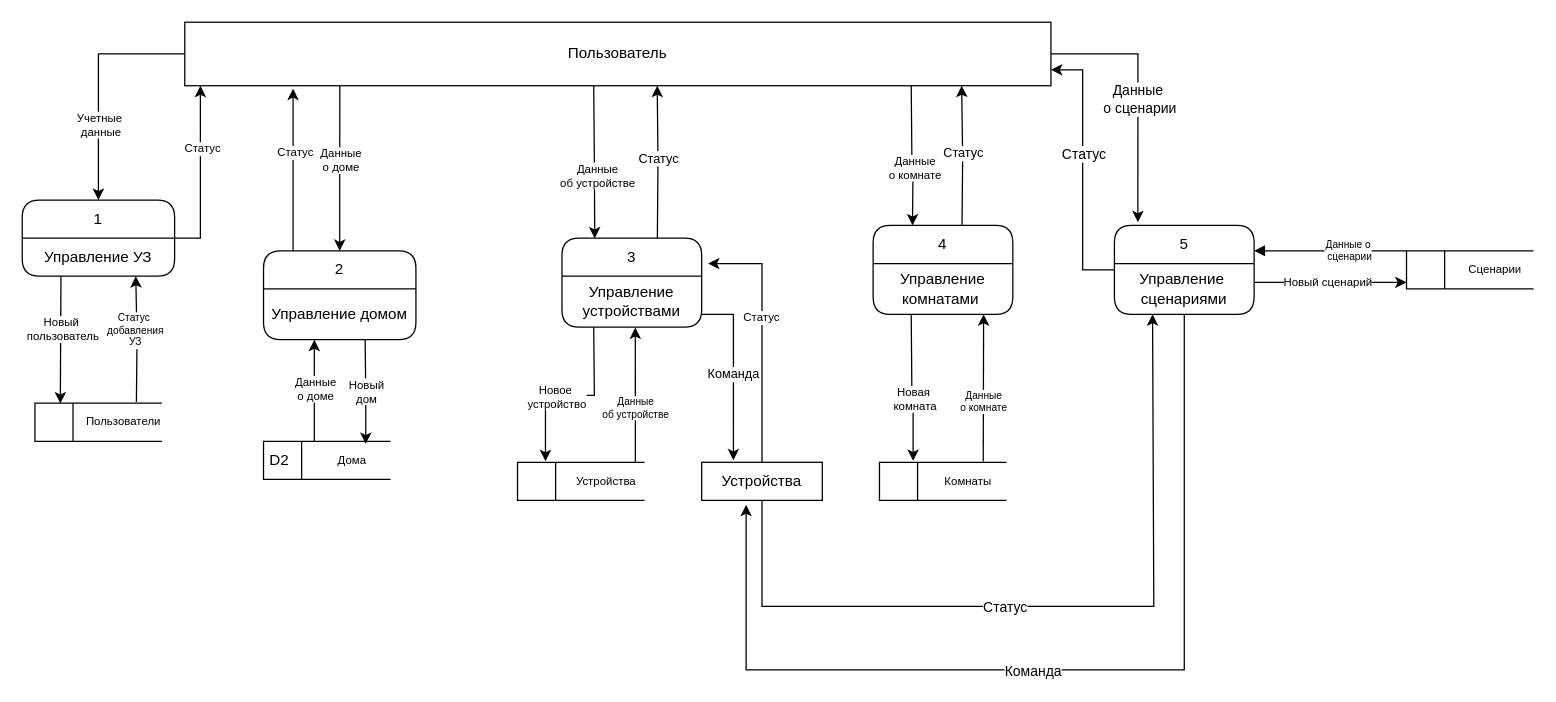
The diagram is 1556 pixels wide and 702 high, and some of its shapes have lost their labels. The box of each missing label's shape, as (x1, y1, x2, y2) in pixels:
D1: (34, 402, 162, 441)
D3: (516, 461, 645, 500)
D4: (878, 461, 1006, 500)
D5: (1405, 250, 1534, 289)
